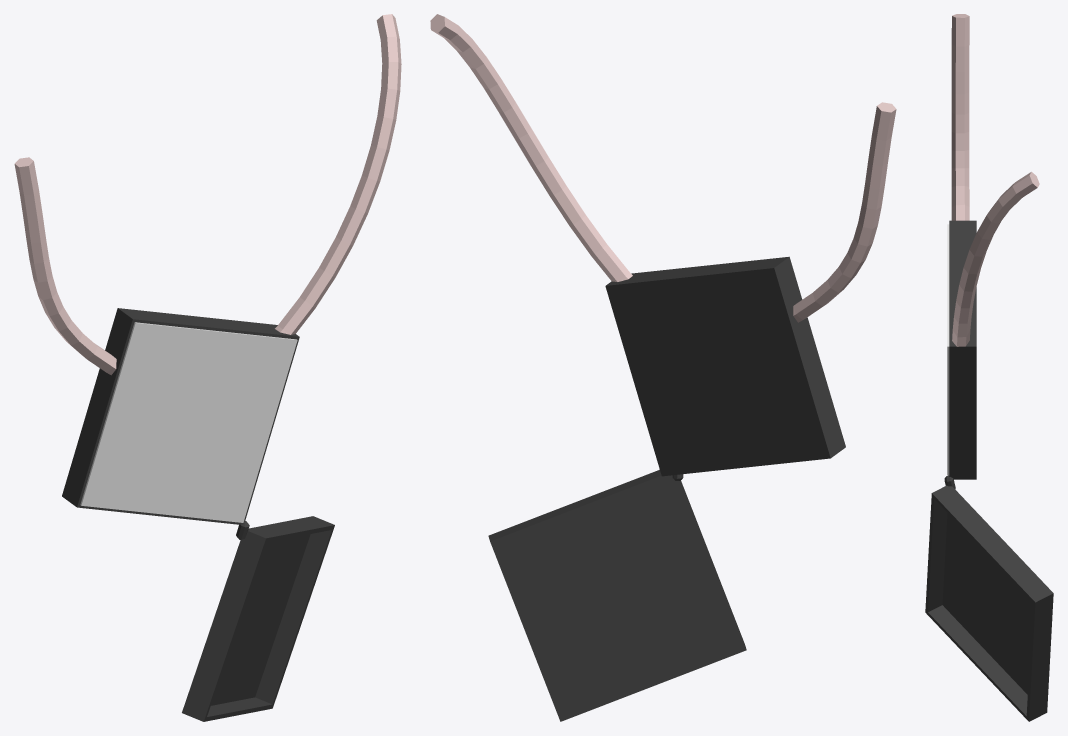
The model's file is hanging_cable_with_circuit.fbx.
3 views of the same model, side by side, from view 1: azimuth 30°, elevation 25°; view 2: azimuth 150°, elevation 25°; view 3: azimuth 270°, elevation 25° (orthographic). The views are drawn at different scales.
Parts seen in each view (by area): view 1: pcb, case, cables; view 2: case, cables; view 3: case, cables, pcb.
Part boxes in pixels (x1=…): pcb: x1=80, y1=322, x2=297, y2=522; case: x1=62, y1=308, x2=334, y2=721; cables: x1=14, y1=14, x2=401, y2=375; case: x1=488, y1=256, x2=845, y2=721; cables: x1=430, y1=14, x2=896, y2=322; case: x1=925, y1=220, x2=1053, y2=721; cables: x1=951, y1=14, x2=1039, y2=346; pcb: x1=947, y1=224, x2=949, y2=475.
Bounding box in the file's own units: 245 × 372 × 72.2.
